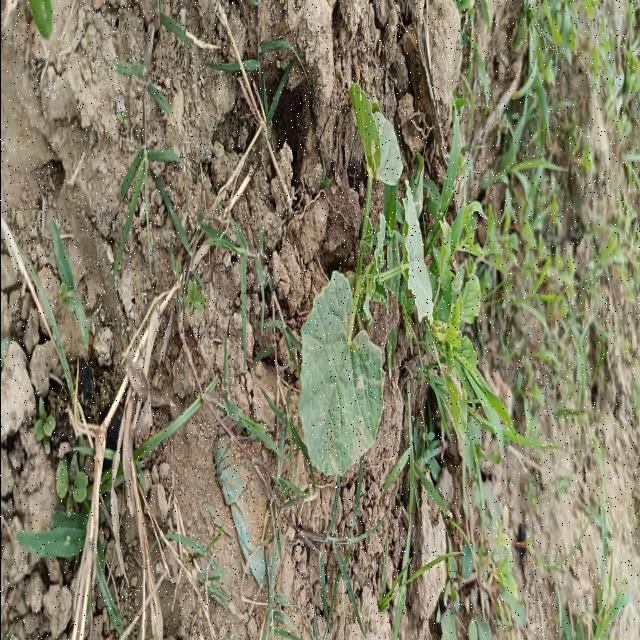plant: (298, 85, 432, 475)
